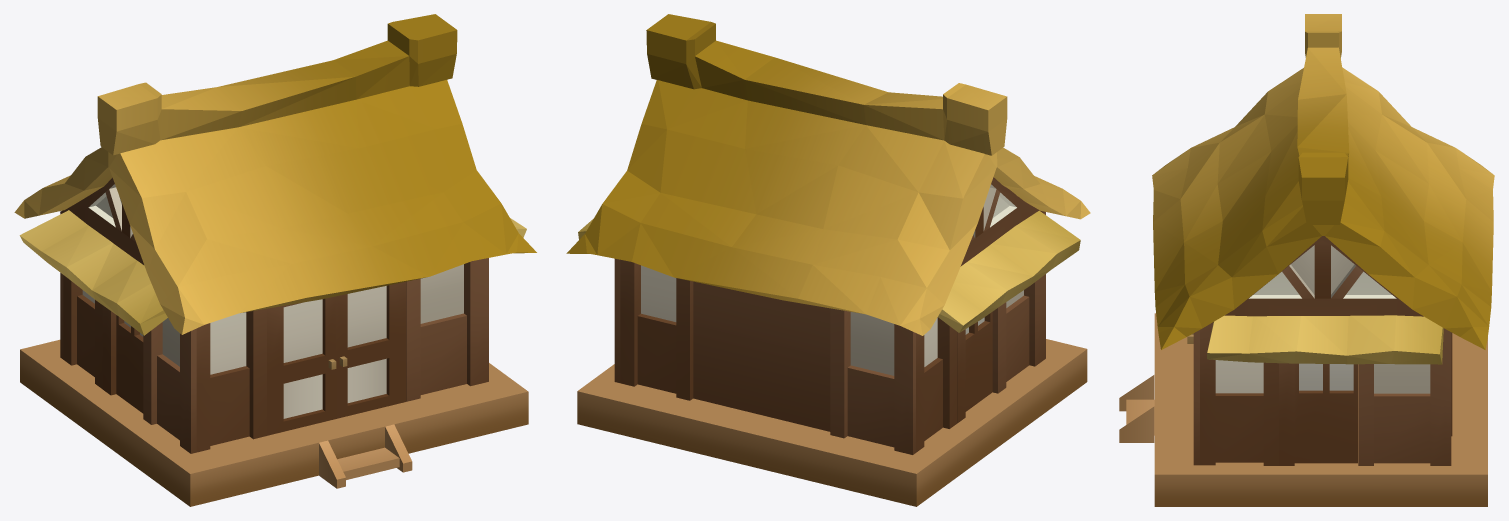
The model's file is House_4x3.fbx.
The picture shows the model from 3 angles, left to right: view 1: azimuth 30°, elevation 25°; view 2: azimuth 150°, elevation 25°; view 3: azimuth 270°, elevation 25°; orthographic projection. The views are drawn at different scales.
Visible parts, largest first — view 1: House_4x3_RoofOnly.001, House_4x3_Base.001, House_Wall_Corner.005, House_Wall_Corner.008, House_Door_1m_L.001, House_Door_1m_R.001, House_4x3_LowerRoof.002, House_Wall_Corner.006, House_Wall_1m_Window.001, House_4x3_Gable.001; view 2: House_4x3_RoofOnly.001, House_4x3_Base.001, House_Wall_2m_Brown.002, House_Wall_Corner.006, House_Wall_Corner.007, House_4x3_LowerRoof.002, House_Wall_Corner.005, House_Wall_1m_Window.001, House_4x3_Gable.001; view 3: House_4x3_RoofOnly.001, House_4x3_Base.001, House_4x3_LowerRoof.001, House_Wall_Corner.007, House_Wall_Corner.008, House_Wall_1m_Window.003, House_4x3_Gable.002.
Part boxes in pixels (left/top/right/bottom): House_4x3_RoofOnly.001: left=14, top=14, right=536, bottom=334; House_4x3_Base.001: left=20, top=339, right=528, bottom=506; House_Wall_Corner.005: left=143, top=308, right=266, bottom=453; House_Wall_Corner.008: left=406, top=258, right=488, bottom=401; House_Door_1m_L.001: left=267, top=296, right=336, bottom=435; House_Door_1m_R.001: left=336, top=282, right=406, bottom=418; House_4x3_LowerRoof.002: left=19, top=210, right=167, bottom=335; House_Wall_Corner.006: left=60, top=213, right=102, bottom=388; House_Wall_1m_Window.001: left=102, top=305, right=143, bottom=413; House_4x3_Gable.001: left=60, top=177, right=143, bottom=264; House_4x3_RoofOnly.001: left=566, top=14, right=1090, bottom=335; House_4x3_Base.001: left=577, top=339, right=1087, bottom=506; House_Wall_2m_Brown.002: left=693, top=281, right=830, bottom=431; House_Wall_Corner.006: left=830, top=308, right=957, bottom=454; House_Wall_Corner.007: left=614, top=258, right=693, bottom=400; House_4x3_LowerRoof.002: left=938, top=210, right=1080, bottom=332; House_Wall_Corner.005: left=992, top=212, right=1045, bottom=393; House_Wall_1m_Window.001: left=957, top=312, right=992, bottom=423; House_4x3_Gable.001: left=960, top=177, right=1045, bottom=266; House_4x3_RoofOnly.001: left=1152, top=14, right=1494, bottom=349; House_4x3_Base.001: left=1119, top=313, right=1487, bottom=506; House_4x3_LowerRoof.001: left=1207, top=315, right=1443, bottom=364; House_Wall_Corner.007: left=1358, top=328, right=1452, bottom=465; House_Wall_Corner.008: left=1193, top=323, right=1278, bottom=465; House_Wall_1m_Window.003: left=1279, top=363, right=1357, bottom=465; House_4x3_Gable.002: left=1211, top=236, right=1423, bottom=323.
Bounding box in the file's own units: 5.54 × 4.7 × 4.75.
1 material, 1 textured.
